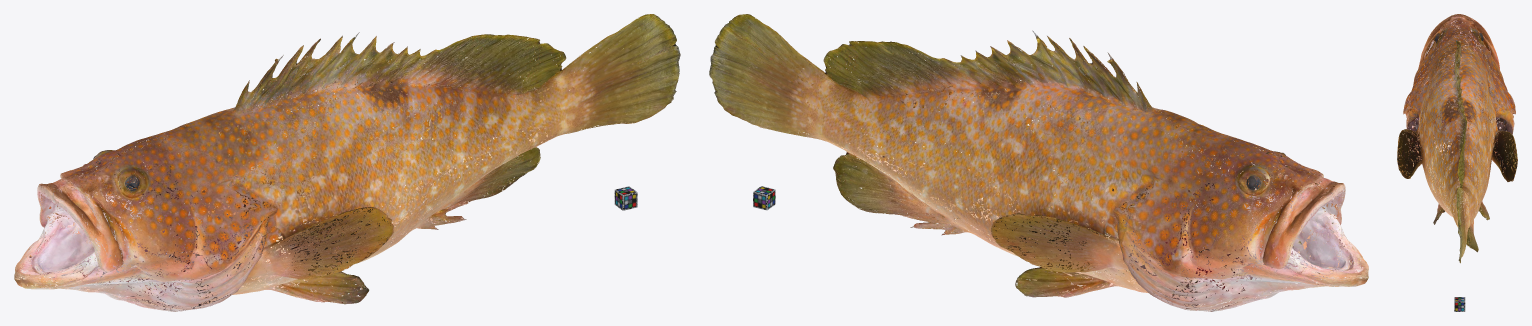
Rendered from scan_grouper.glb.
3 views of the same model, side by side, from view 1: azimuth 30°, elevation 25°; view 2: azimuth 150°, elevation 25°; view 3: azimuth 270°, elevation 25° (orthographic). The views are drawn at different scales.
Visible parts, largest first — view 1: Object_6, Object_14, Object_21, Object_4; view 2: Object_6, Object_14, Object_21, Object_4; view 3: Object_6, Object_14, Object_21, Object_4.
Part boxes in pixels (box(x1,y1,x2,y2)): Object_6: box(14, 14, 676, 311); Object_14: box(15, 14, 680, 311); Object_21: box(14, 14, 679, 311); Object_4: box(614, 186, 637, 210); Object_6: box(715, 15, 1368, 309); Object_14: box(709, 14, 1368, 311); Object_21: box(709, 17, 1368, 311); Object_4: box(753, 186, 775, 210); Object_6: box(1397, 14, 1517, 252); Object_14: box(1398, 14, 1517, 263); Object_21: box(1397, 14, 1517, 261); Object_4: box(1454, 297, 1465, 311).
Size of the model in its own units: 24.39 by 8.96 by 5.75.
4 materials, 4 textured.
